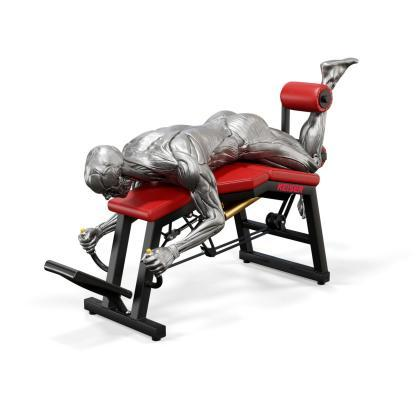reg curl machine: (42, 57, 360, 348)
